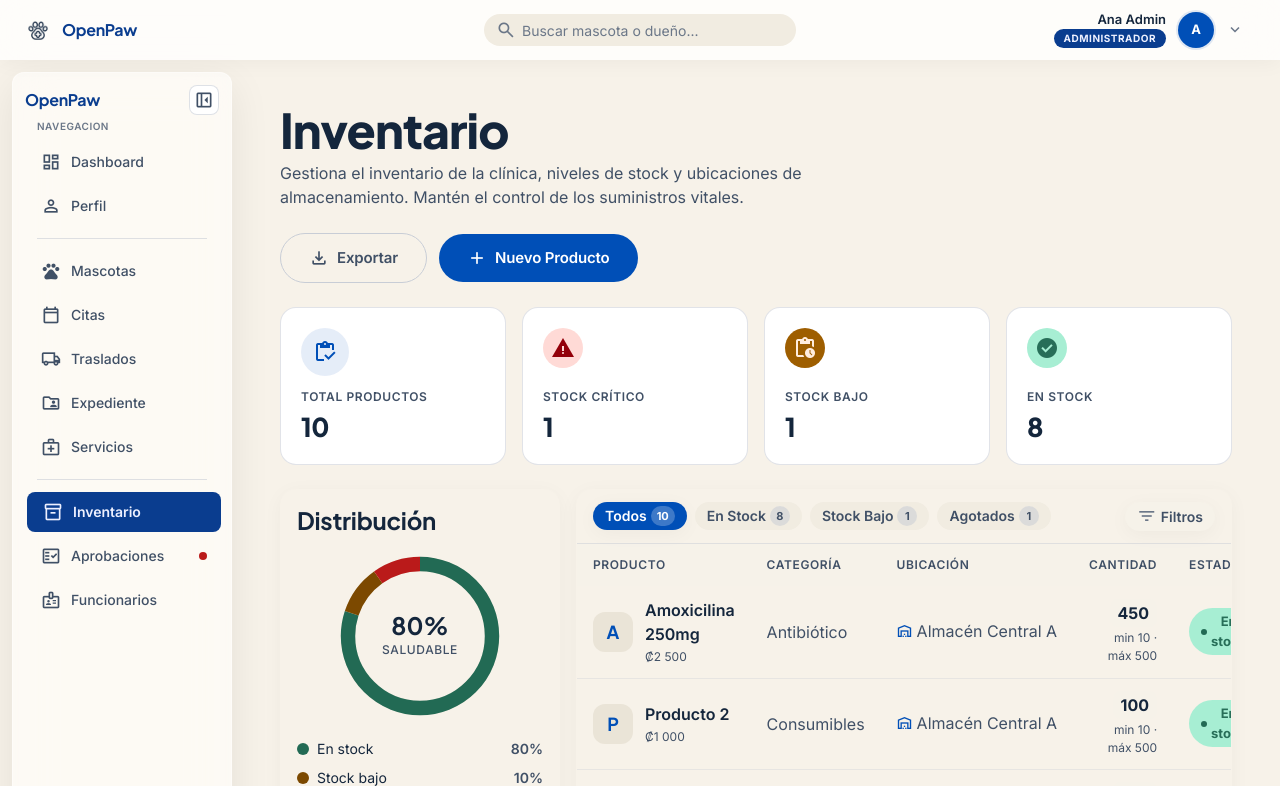
Test: InventarioPage - rediseno donut, mapa, exportar y paginacion (T34) › chips de estado filtran la tabla y resetean la pagina
The width and height of the screenshot is (1280, 786).
Expected: the text "Amoxicilina 250mg" is shown, [645,598,735,646]
Click the button "Agotados 1" at (994, 516), box [938,502,1051,530]
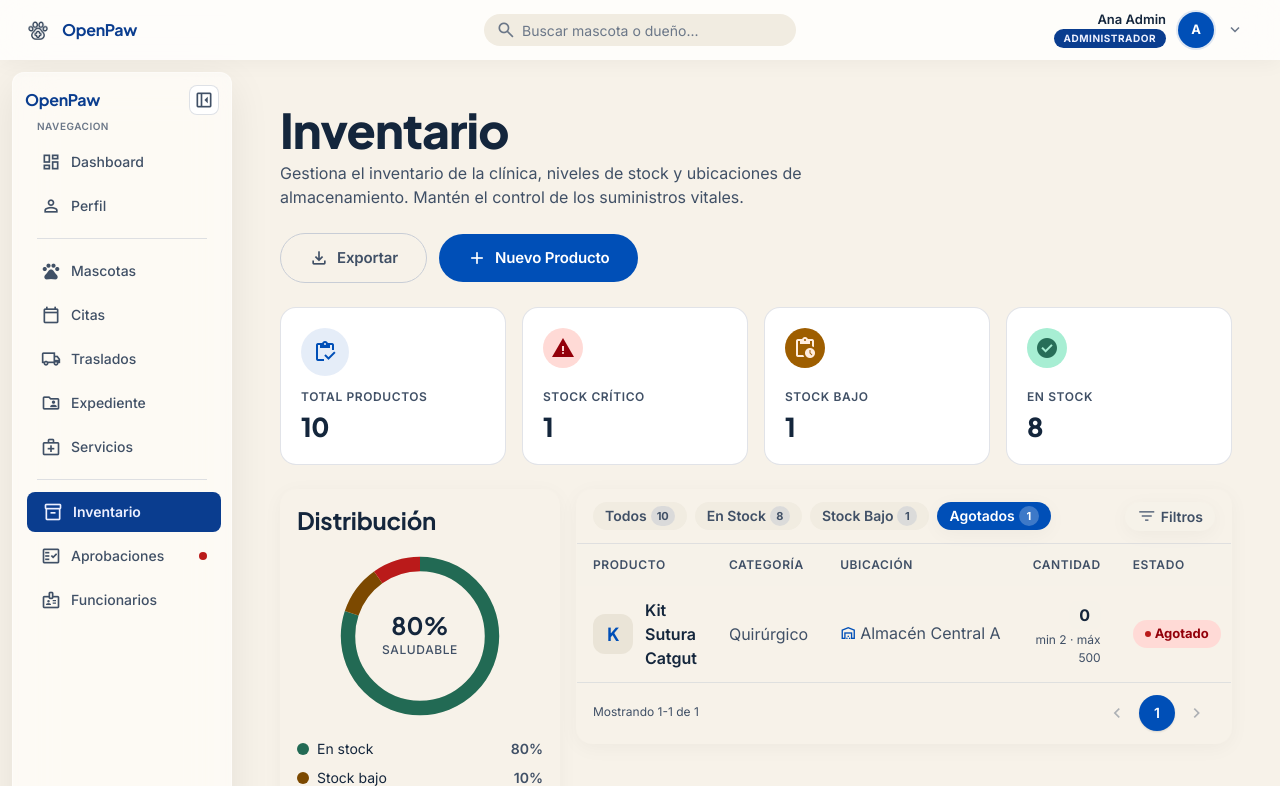
Expected: the text "Kit Sutura Catgut" is shown, [645,598,697,670]
Expected: the text "Amoxicilina 250mg" is gone
Click the button "Stock Bajo 1" at (870, 516), box [810,502,929,530]
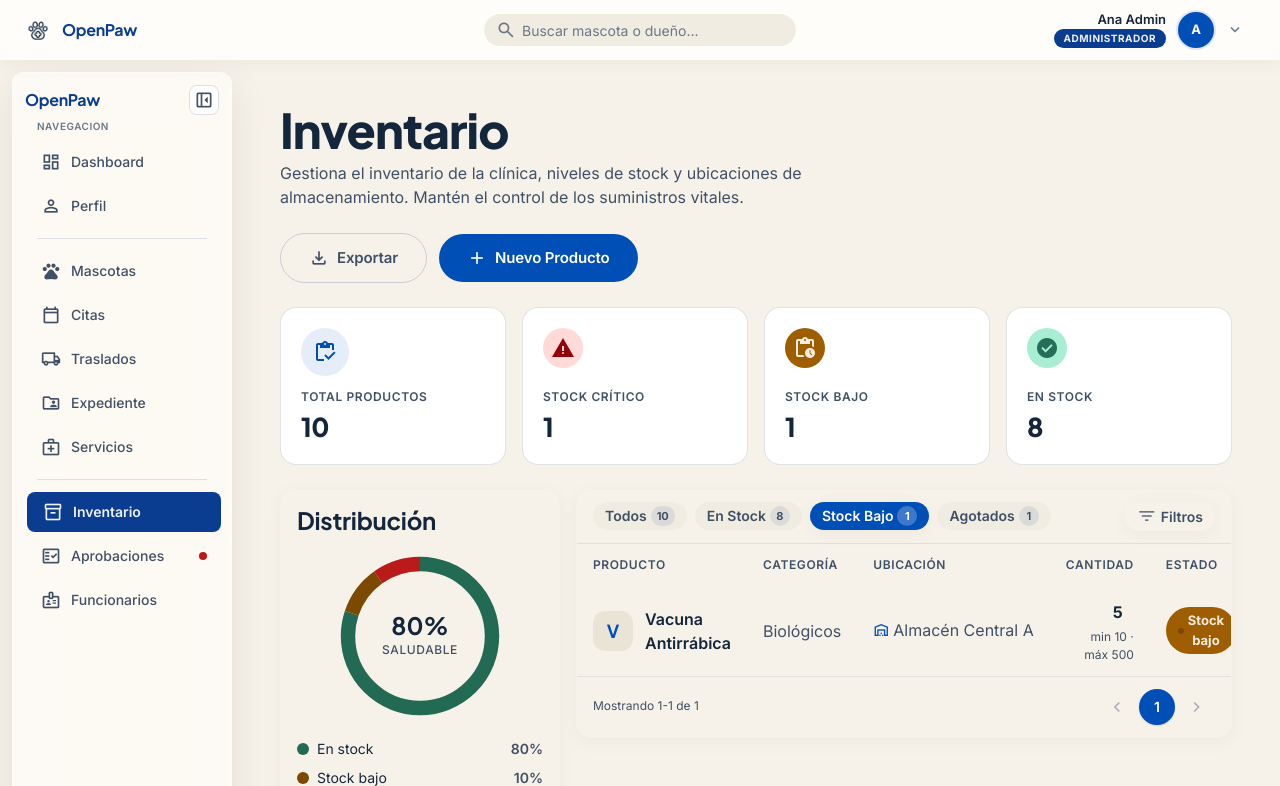
Expected: the text "Vacuna Antirrábica" is shown, [645,607,731,655]
Expected: the text "Kit Sutura Catgut" is gone
Click the button "Todos 10" at (640, 516), box [593,502,687,530]
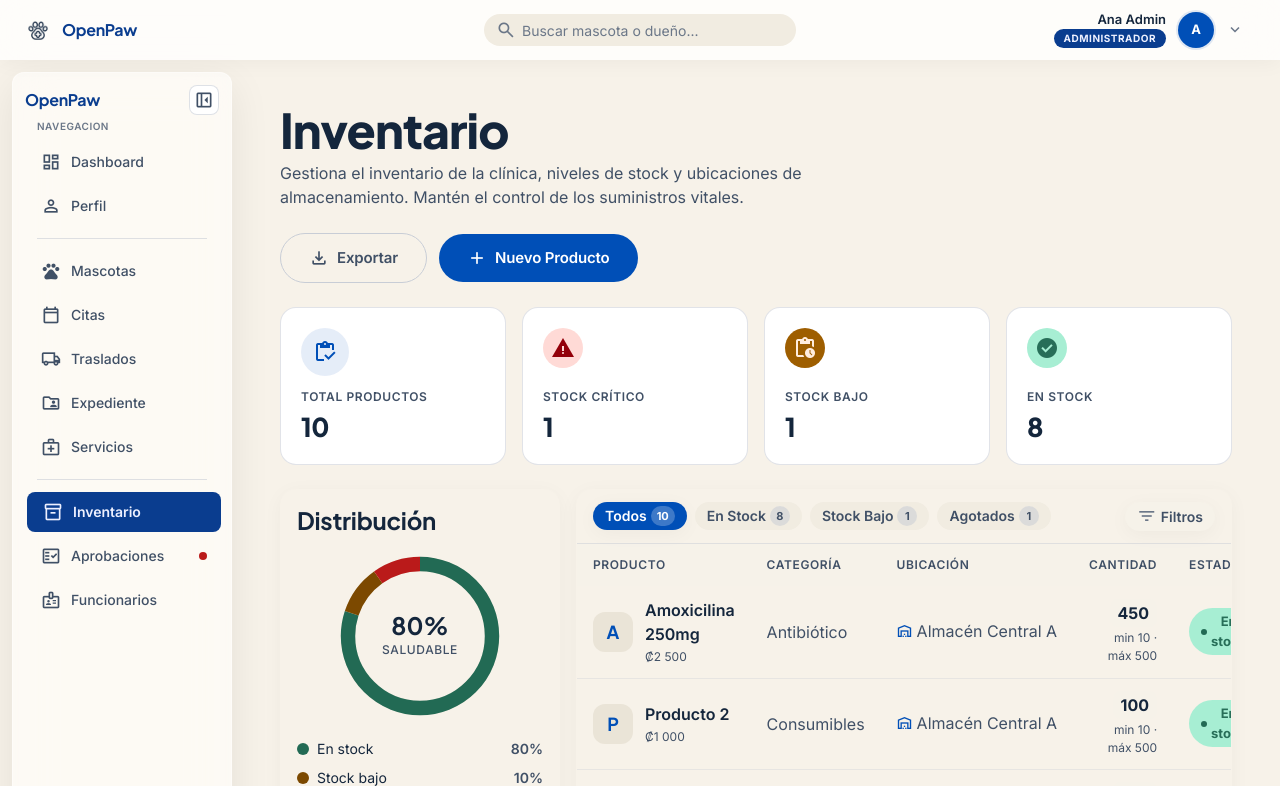
Expected: the text "Amoxicilina 250mg" is shown, [645,598,735,646]
